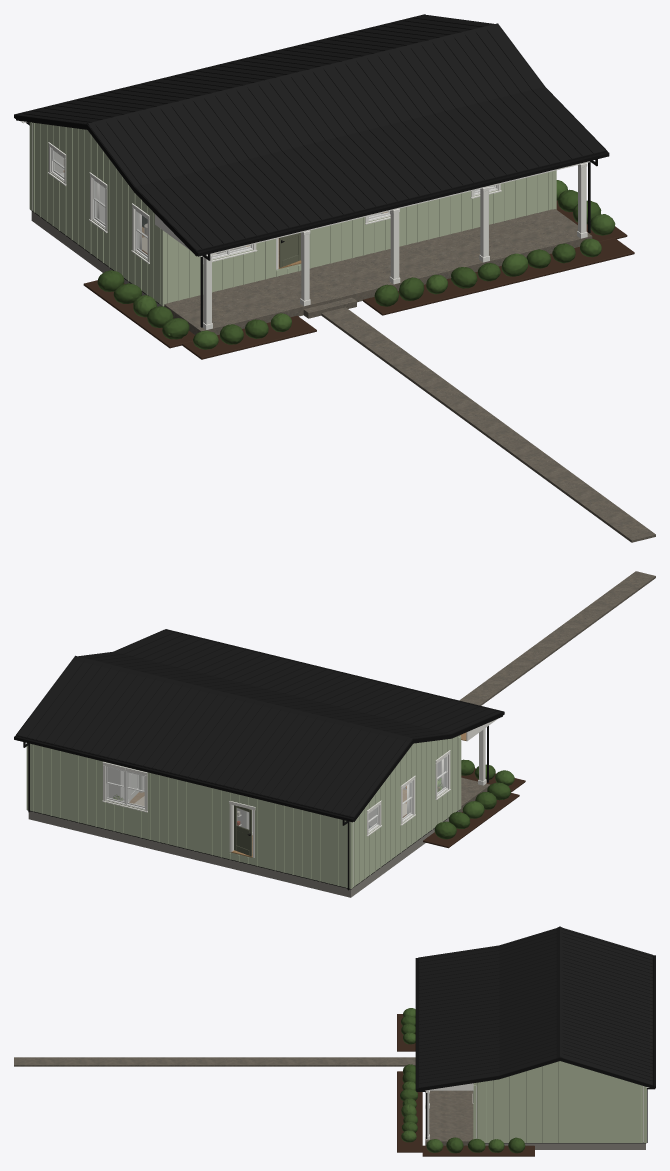
Rendered from house.glb.
3 views of the same model, one above another, from view 1: azimuth 30°, elevation 25°; view 2: azimuth 150°, elevation 25°; view 3: azimuth 270°, elevation 25° (orthographic). The views are drawn at different scales.
Visible parts, largest first — view 1: LM_roof, LM_site, LM_walls, LM_fixtures, UNLIT_glass_glow; view 2: LM_roof, LM_walls, LM_site, LM_fixtures, UNLIT_glass_glow; view 3: LM_roof, LM_walls, LM_site.
Boxes of the visible parts, x1,y1,x2,y2 form: LM_roof: [14, 14, 609, 327]; LM_site: [31, 161, 655, 542]; LM_walls: [29, 122, 556, 306]; LM_fixtures: [51, 148, 497, 259]; UNLIT_glass_glow: [53, 151, 494, 254]; LM_roof: [14, 629, 504, 890]; LM_walls: [26, 735, 461, 888]; LM_site: [27, 571, 655, 897]; LM_fixtures: [105, 755, 447, 856]; UNLIT_glass_glow: [108, 757, 445, 829]; LM_roof: [415, 926, 655, 1142]; LM_walls: [472, 1061, 646, 1142]; LM_site: [14, 1008, 646, 1156].
Size of what is drawn, in the model's own units: 17.12 by 5.29 by 31.93.
72 materials, 20 textured.
